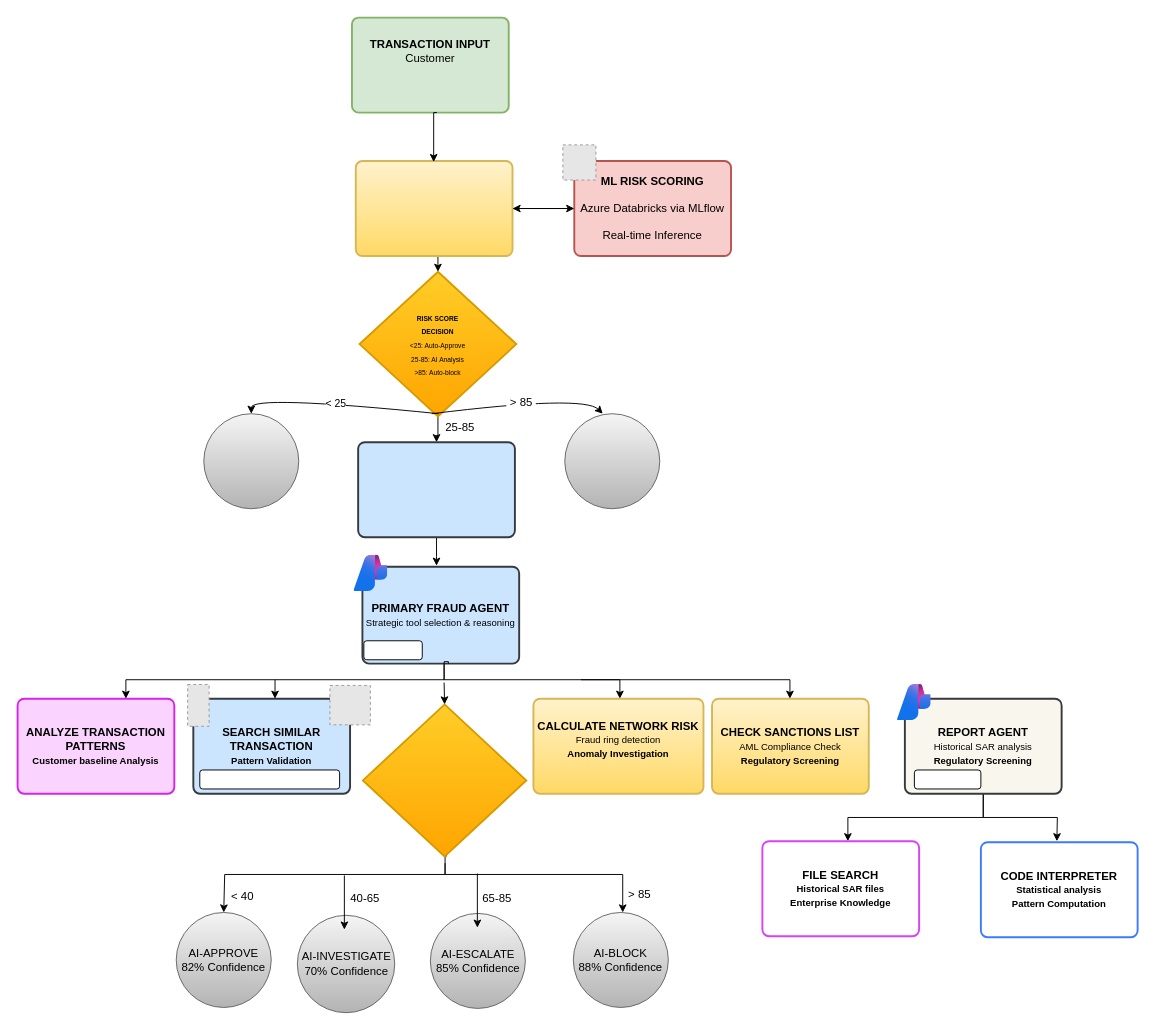
This 1154x1029 diagram has some shape labels left out. Grey dashed boxes stand in for pictures. The centre of each missing label's shape, as x and y in pixels:
"AI DECISION SYNTHESIS <40: Approve 40-65: Investigate 65-85: Escalate >85: Block" goes at pixel 444 780.
"AUTO-APPROVE 85% Confidence" goes at pixel 251 461.
"AUTO-BLOCK 90% Confidence" goes at pixel 612 461.
"GPT-4-mini" goes at pixel 947 779.
"GPT-4o" goes at pixel 392 650.
"MongoDB Vector Search" goes at pixel 269 779.
"STAGE 1: RULES (ML) Pattern matching and Risk scoring" goes at pixel 433 208.
"STAGE 2: AI Analysis Vector Search & Agent Reasoning" goes at pixel 436 489.
